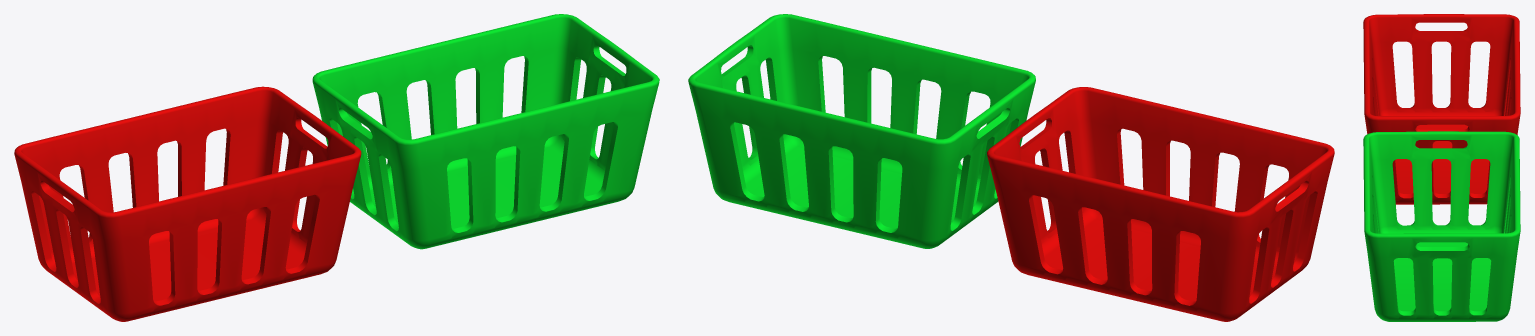
File: basket.fbx
3 renders of one model, left to right at view 1: azimuth 30°, elevation 25°; view 2: azimuth 150°, elevation 25°; view 3: azimuth 270°, elevation 25°, orthographic. The views are drawn at different scales.
Visible parts, largest first — view 1: plastic basket, plastic basket.001; view 2: plastic basket, plastic basket.001; view 3: plastic basket.001, plastic basket.
Boxes of the visible parts, <box> form: plastic basket: <box>14,86,361,321</box>; plastic basket.001: <box>312,14,659,249</box>; plastic basket: <box>987,87,1334,321</box>; plastic basket.001: <box>688,14,1035,248</box>; plastic basket.001: <box>1363,131,1520,321</box>; plastic basket: <box>1363,14,1520,204</box>.
Size of the model in its own units: 86.21 by 18.11 by 25.82.
